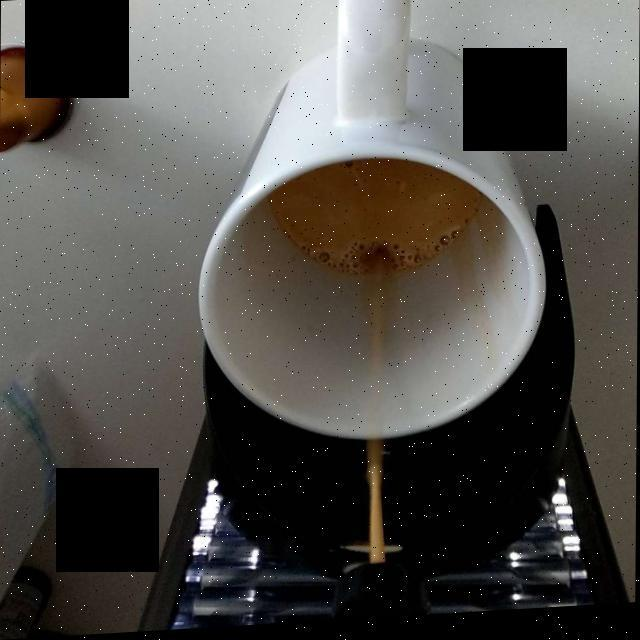coffee: (269, 164, 480, 282)
